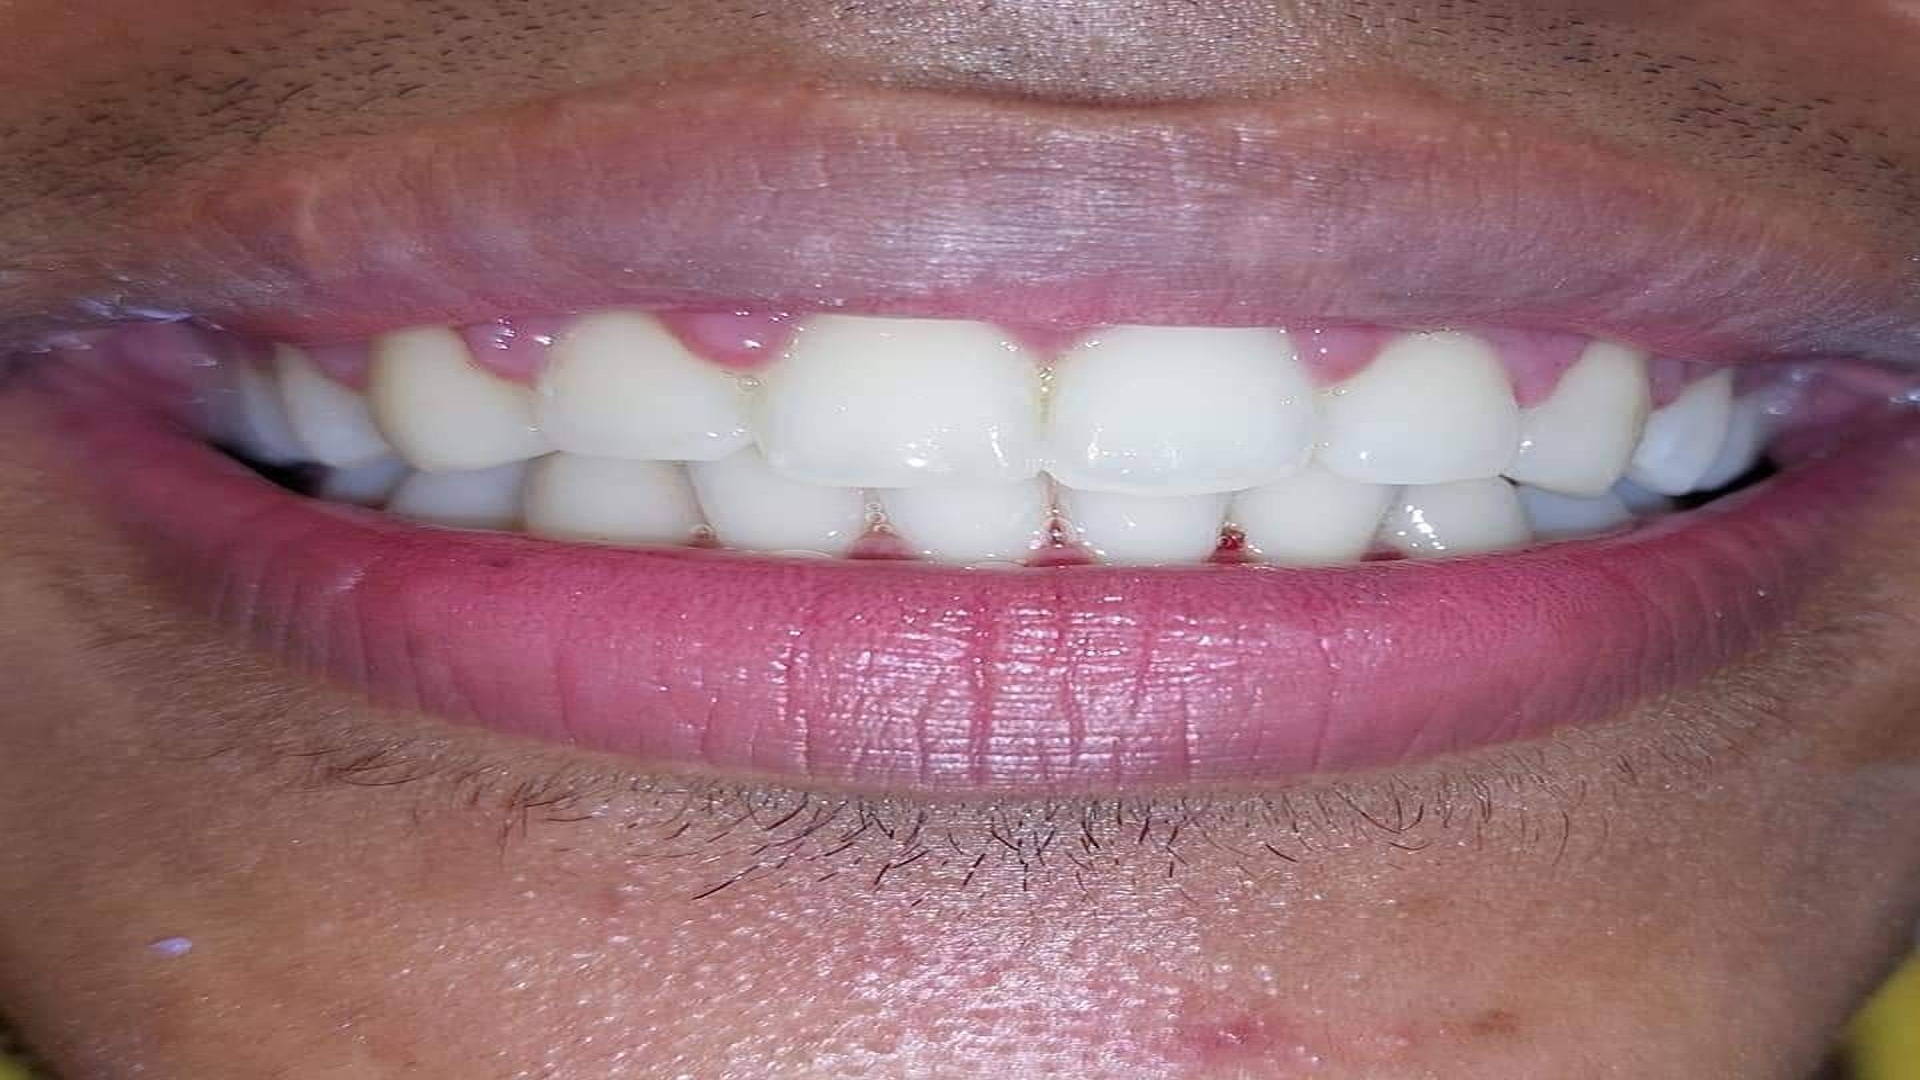tooth: (754, 314, 1040, 488), (1047, 326, 1313, 496), (534, 313, 754, 462), (1312, 331, 1519, 484), (1505, 342, 1651, 498), (367, 324, 521, 472), (1627, 368, 1792, 497), (522, 451, 721, 549), (1023, 469, 1218, 564), (688, 451, 865, 555), (1218, 465, 1385, 568), (865, 476, 1040, 564), (1377, 477, 1532, 558)
